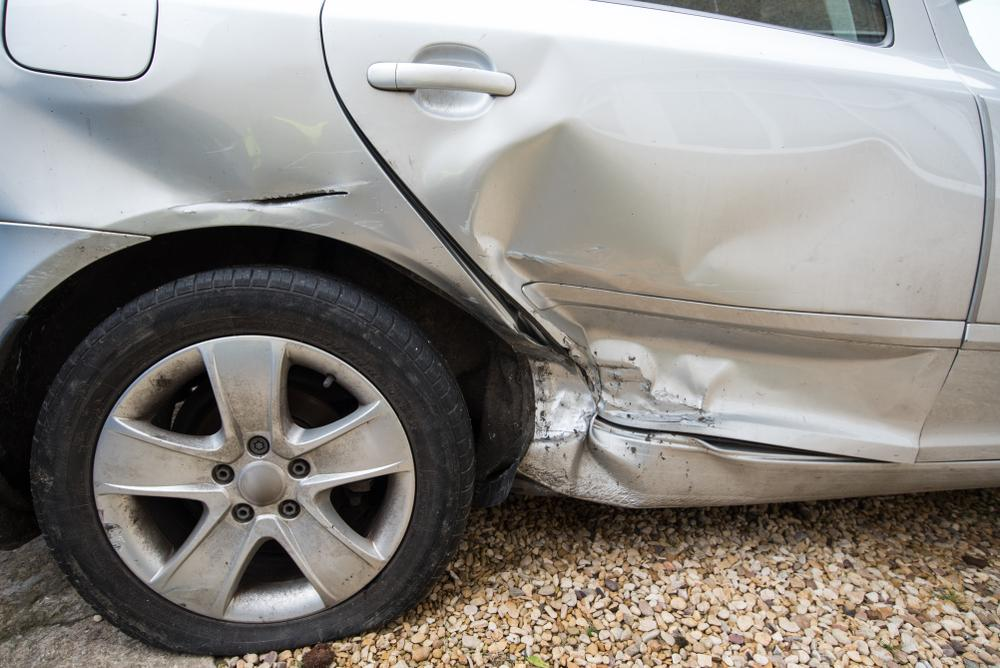crack: (226, 190, 354, 208)
dent: (432, 38, 972, 443), (510, 320, 753, 500), (20, 86, 257, 229)
tire flat: (34, 264, 479, 657)
